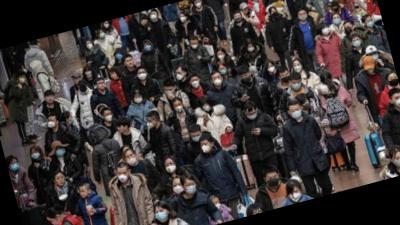with_mask: (287, 189, 304, 205), (154, 208, 170, 224), (171, 181, 187, 197), (266, 174, 282, 190), (117, 169, 132, 185), (185, 180, 199, 197), (289, 107, 304, 122), (200, 140, 214, 156), (164, 160, 178, 175), (55, 144, 68, 158), (126, 153, 138, 167), (29, 150, 42, 162), (46, 117, 58, 130), (173, 102, 186, 114), (133, 94, 146, 106), (291, 80, 304, 92), (351, 37, 364, 49), (388, 75, 400, 88), (190, 133, 204, 144), (247, 110, 259, 122), (212, 75, 224, 87), (175, 70, 186, 83), (10, 160, 21, 172), (124, 58, 136, 69), (164, 87, 176, 98), (190, 77, 201, 89), (280, 72, 291, 84), (293, 62, 304, 74), (301, 99, 312, 111), (369, 51, 381, 62), (137, 71, 148, 82), (332, 16, 343, 27), (146, 118, 156, 130), (240, 74, 252, 84), (366, 17, 376, 29), (104, 112, 114, 123), (213, 200, 223, 211), (202, 102, 212, 113), (267, 64, 277, 75), (299, 12, 309, 23), (344, 24, 354, 35), (366, 65, 377, 75), (218, 67, 228, 77), (191, 41, 201, 51), (78, 84, 89, 93), (19, 75, 28, 85), (86, 40, 95, 50), (115, 52, 124, 62), (150, 12, 160, 21), (179, 14, 188, 24), (234, 14, 243, 24), (322, 26, 331, 36), (68, 115, 76, 126), (394, 94, 400, 108), (144, 43, 153, 52), (217, 52, 226, 61), (247, 45, 256, 54), (99, 30, 107, 39), (85, 70, 93, 79), (194, 0, 202, 8), (50, 218, 59, 225), (104, 21, 111, 30), (358, 9, 364, 16)
without_mask: (55, 174, 67, 187), (96, 80, 108, 92), (46, 94, 57, 105), (79, 188, 89, 199), (117, 125, 127, 136), (72, 76, 82, 87), (109, 72, 119, 82), (242, 7, 250, 15), (271, 10, 279, 18), (140, 19, 147, 27)
